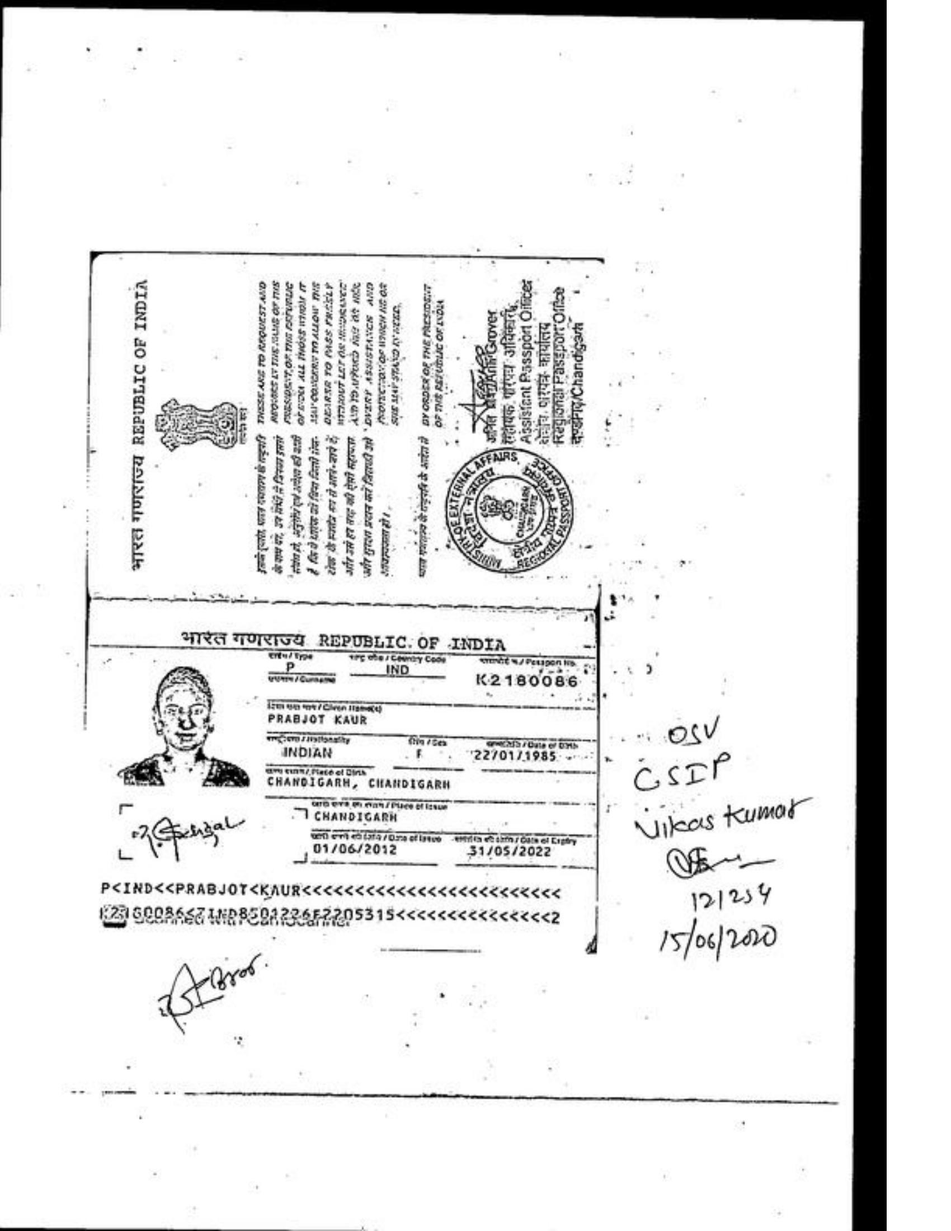DOB: (462, 744, 572, 766)
country_code: (380, 659, 418, 684)
date_of_expiry: (454, 839, 566, 862)
date_of_issue: (304, 838, 412, 862)
details: (90, 870, 568, 933)
name: (255, 701, 389, 732)
nationality: (265, 739, 351, 766)
passport_no: (466, 670, 592, 697)
photo: (121, 663, 254, 787)
place_of_birth: (263, 775, 455, 796)
place_of_issue: (312, 807, 402, 826)
sex: (401, 747, 440, 767)
sign: (132, 807, 257, 867)
type: (271, 656, 313, 675)
